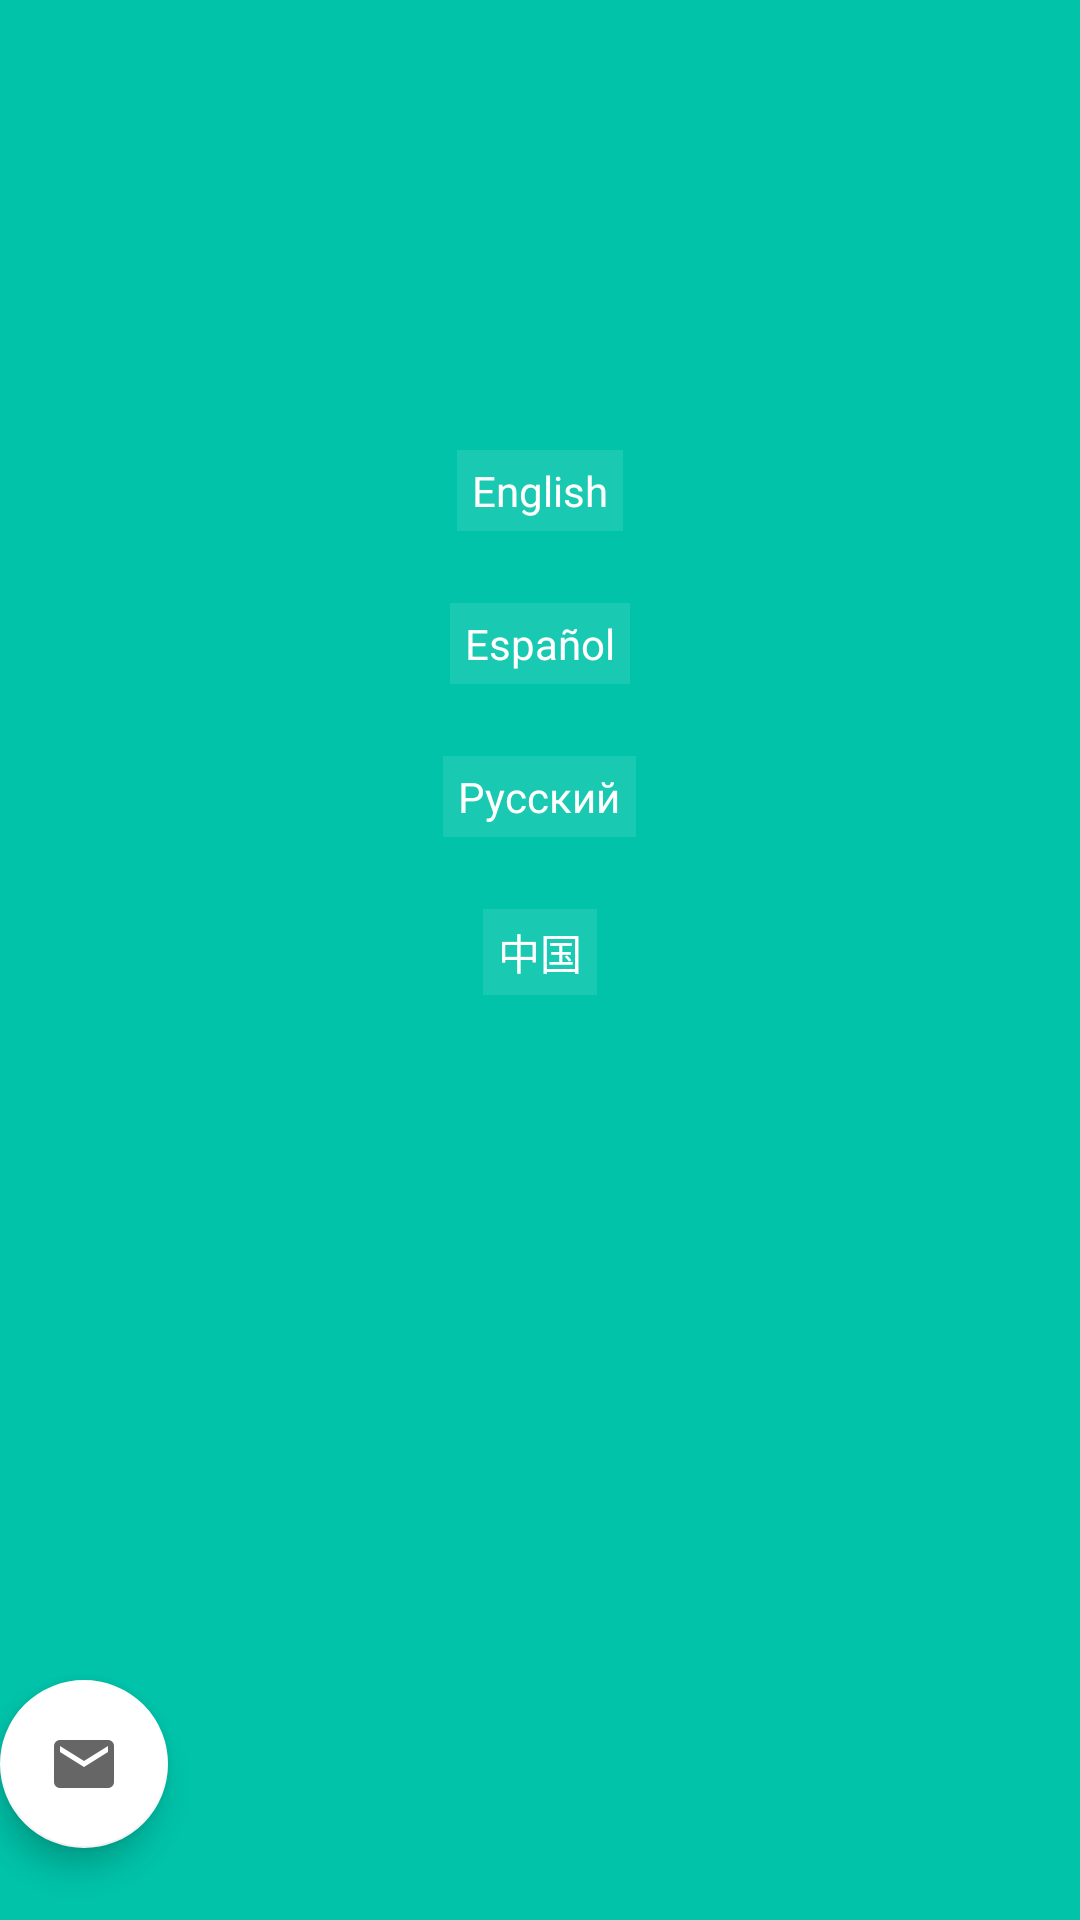

Locate icon controls on the screen. Image size 1080px x 1920px, boxes as (x1, y1, x2, y2).
envelope: (0, 1680, 168, 1848)
